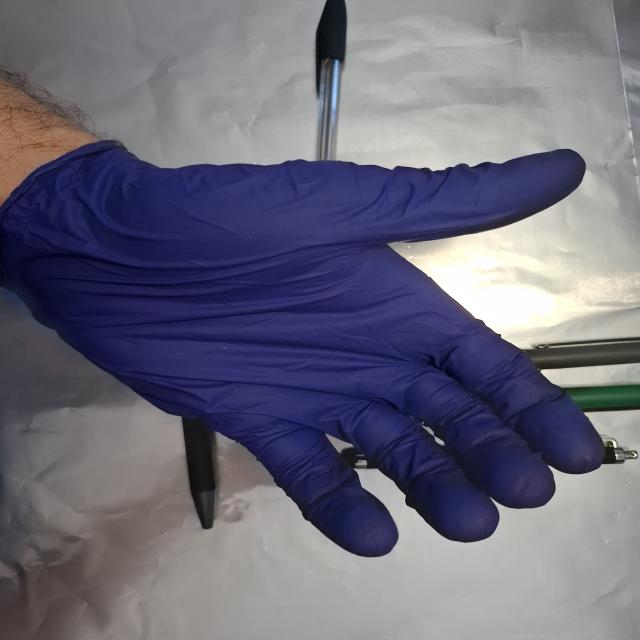glove_on: (4, 134, 612, 560)
